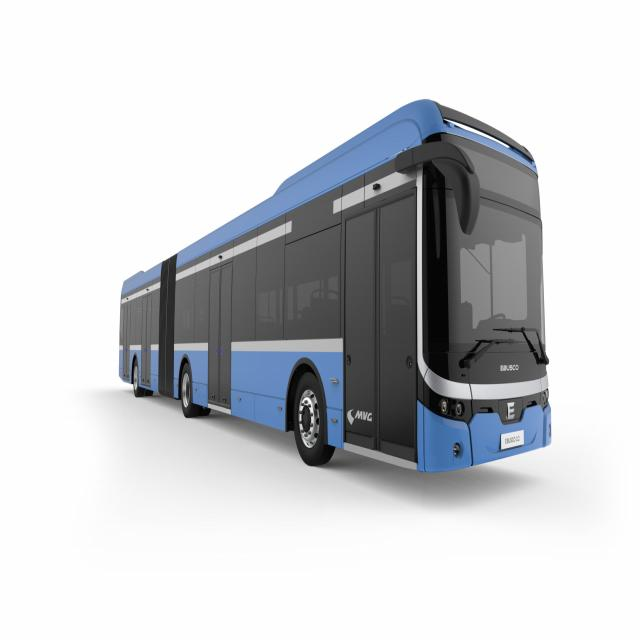bus: (118, 100, 553, 471)
